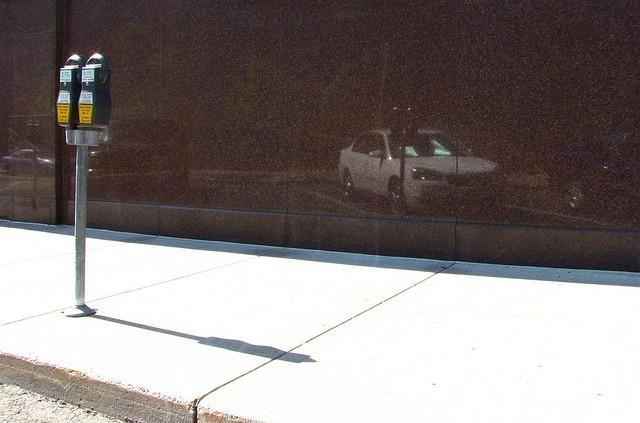car: (338, 128, 502, 213)
